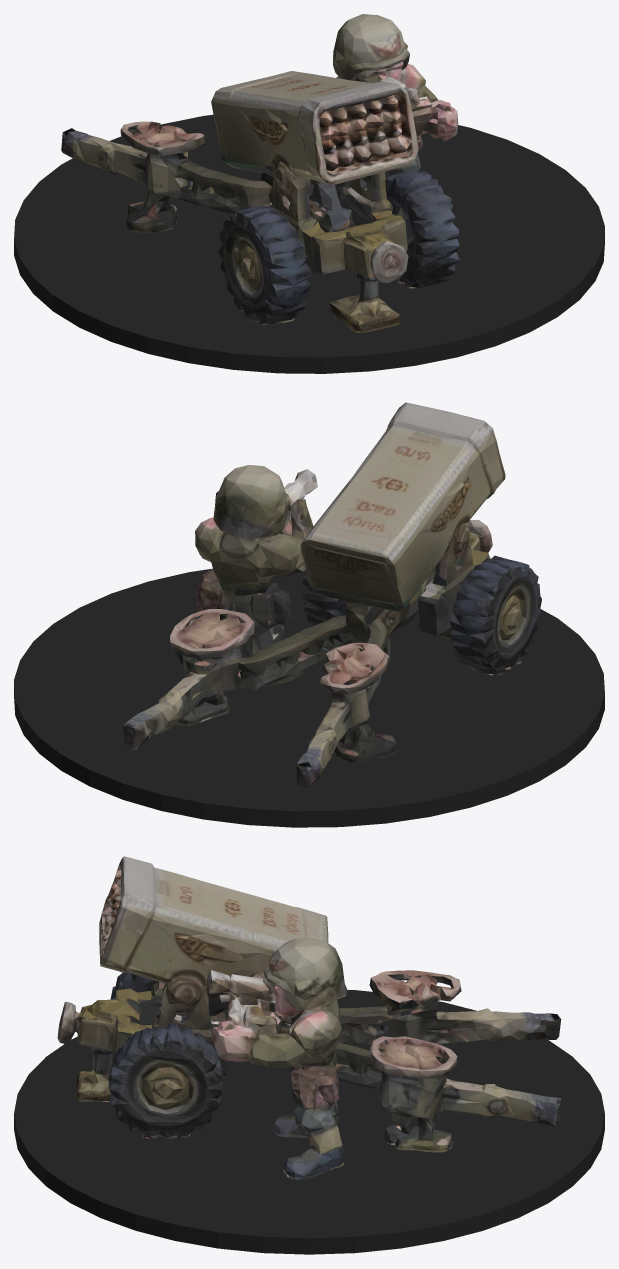
Rendered from malleus-rocket-battery.glb.
3 views of the same model, one above another, from view 1: azimuth 30°, elevation 25°; view 2: azimuth 150°, elevation 25°; view 3: azimuth 270°, elevation 25° (orthographic).
Parts seen in each view (by area): view 1: base, figure; view 2: base, figure; view 3: figure, base.
Boxes of the visible parts, bbox=[...] form: base: bbox=[14, 114, 604, 373]; figure: bbox=[61, 14, 459, 333]; base: bbox=[14, 568, 604, 827]; figure: bbox=[123, 402, 541, 787]; figure: bbox=[57, 856, 561, 1179]; base: bbox=[14, 990, 604, 1254].
Bounding box in the file's own units: 3.94 × 1.72 × 3.94.
Materials: 2 (1 with a texture image).
